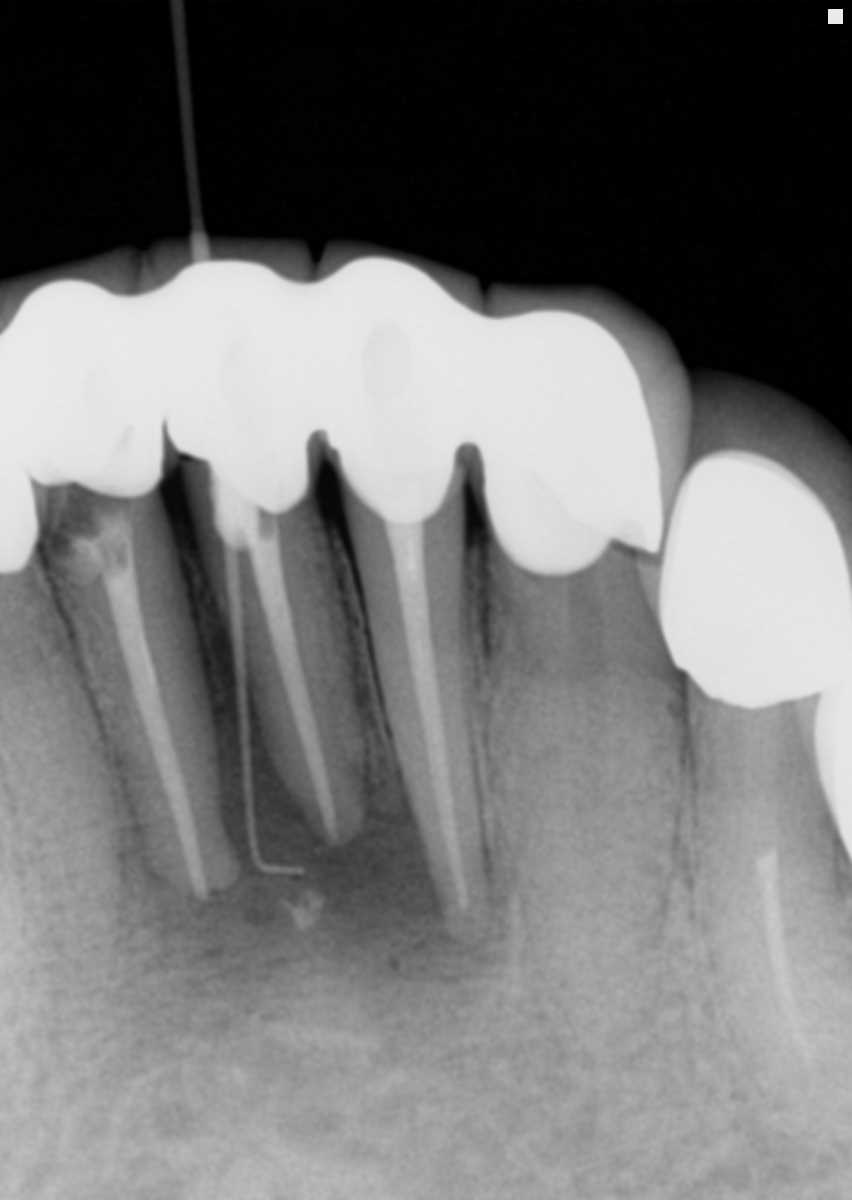Apical Lesion: (218, 752, 433, 957)
Main Canal: (561, 637, 611, 1014)
Main Root: (485, 627, 693, 1051), (63, 530, 243, 900), (693, 743, 852, 1160), (362, 528, 496, 941), (216, 523, 367, 843)
Root Canal Filling: (99, 555, 207, 891), (395, 532, 473, 919), (249, 536, 339, 841), (754, 852, 821, 1072)
